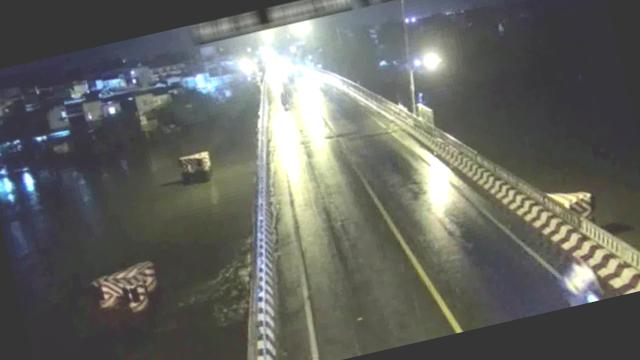Bike: (275, 90, 292, 114)
